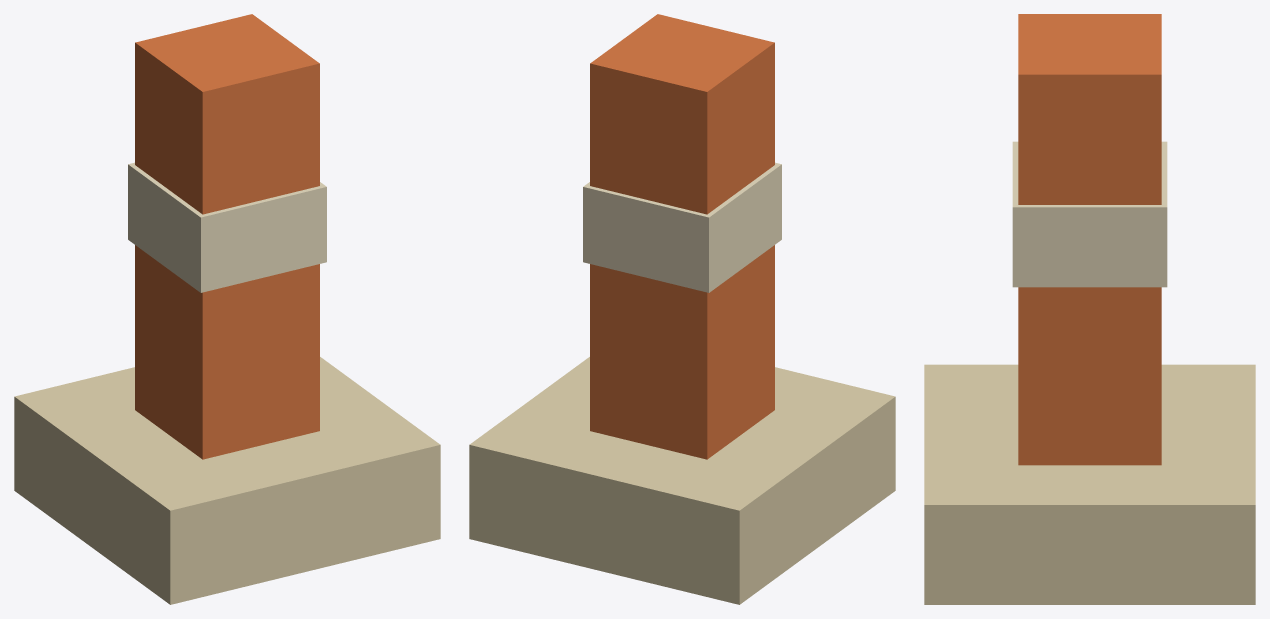
Rendered from bollard.glb.
The picture shows the model from 3 angles, left to right: view 1: azimuth 30°, elevation 25°; view 2: azimuth 150°, elevation 25°; view 3: azimuth 270°, elevation 25°; orthographic projection. The views are drawn at different scales.
Visible parts, largest first — view 1: bollard; view 2: bollard; view 3: bollard.
Part boxes in pixels (x1,y1,x2,y2): bollard: [14, 14, 440, 604]; bollard: [469, 14, 895, 604]; bollard: [924, 14, 1255, 604].
Bounding box in the file's own units: 0.3 × 0.49 × 0.3.
